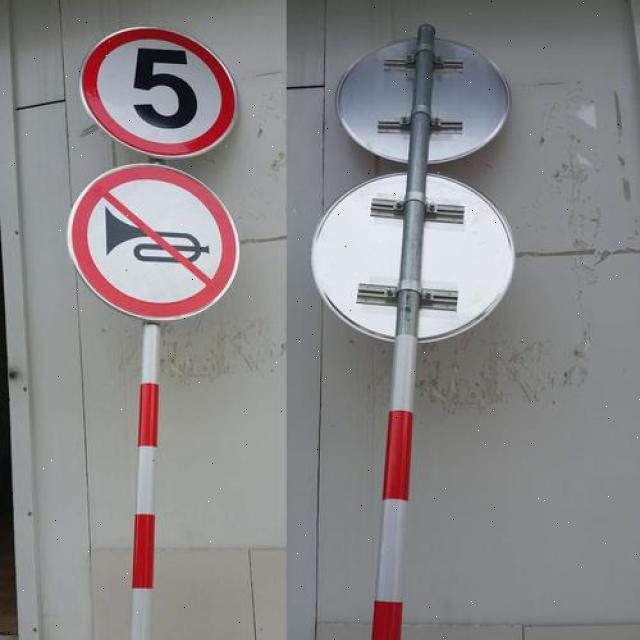speed limit 10: (79, 25, 238, 160)
